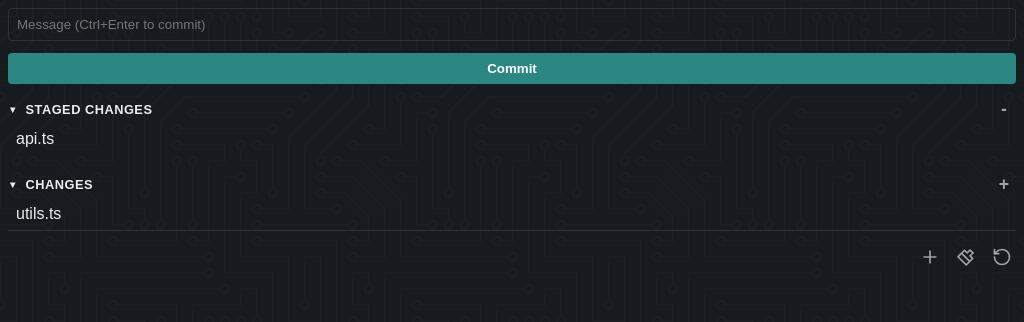
FilesBox Component Tests › Commit and Footer Actions › should add a new file to Changes when 'Add new file' button is clicked
The image size is (1024, 322).
What coordinates should you click on to do the following:
click the button named "Add new file"
I would click on:
 (930, 257)
Its box is [916,243,944,271].
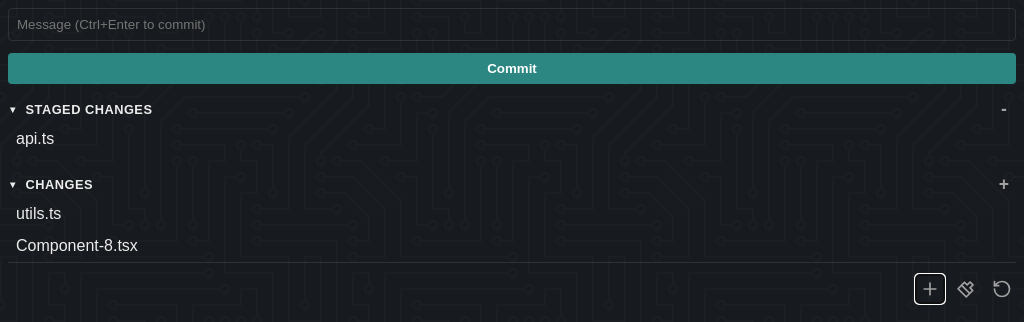
Check: the text "Component-8.tsx" is shown, box [16,237,138,254]
